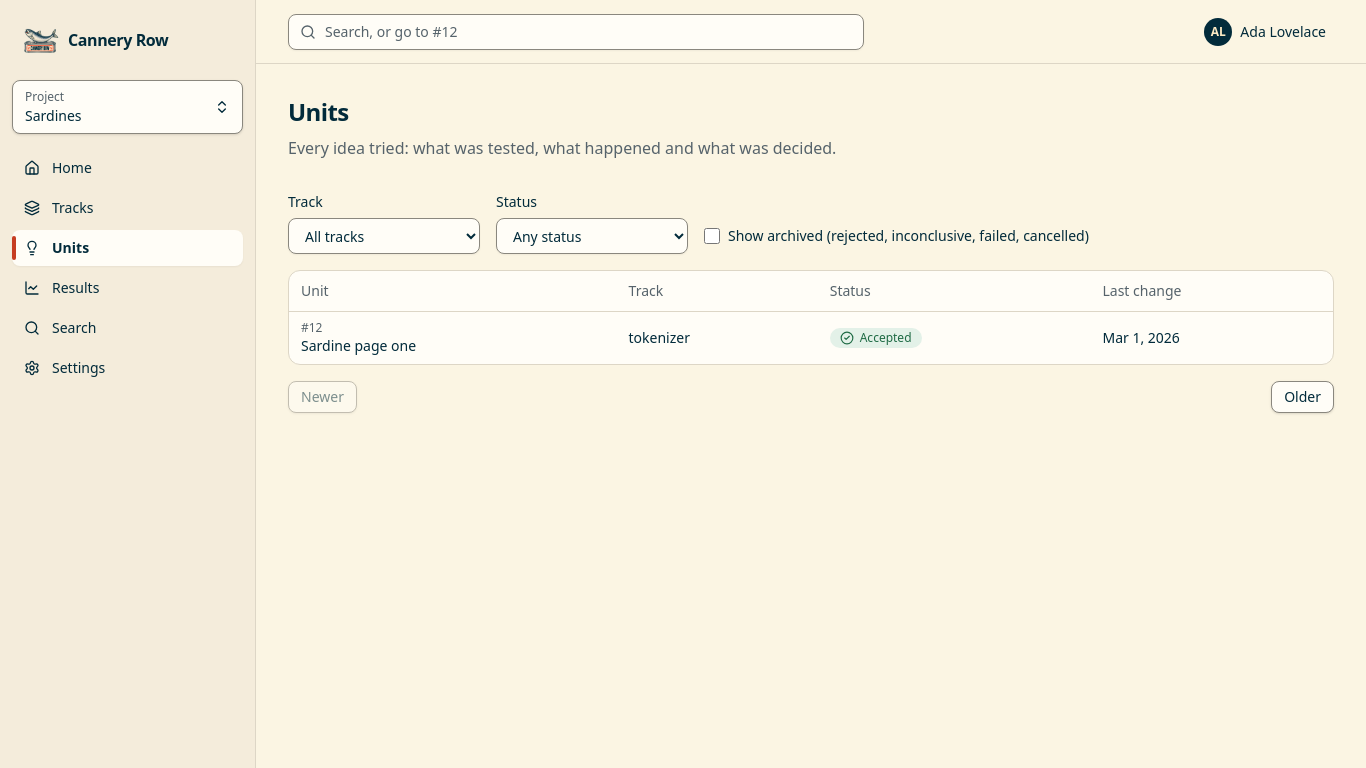
it: the units list across projects › starts the new project at its first page, never showing the old project's rows
This screenshot has width=1366, height=768.
Check: the text "Sardine page one" is shown, box [301,336,416,354]
Click the button "Older".
click(1303, 396)  # box [1271,380,1334,412]
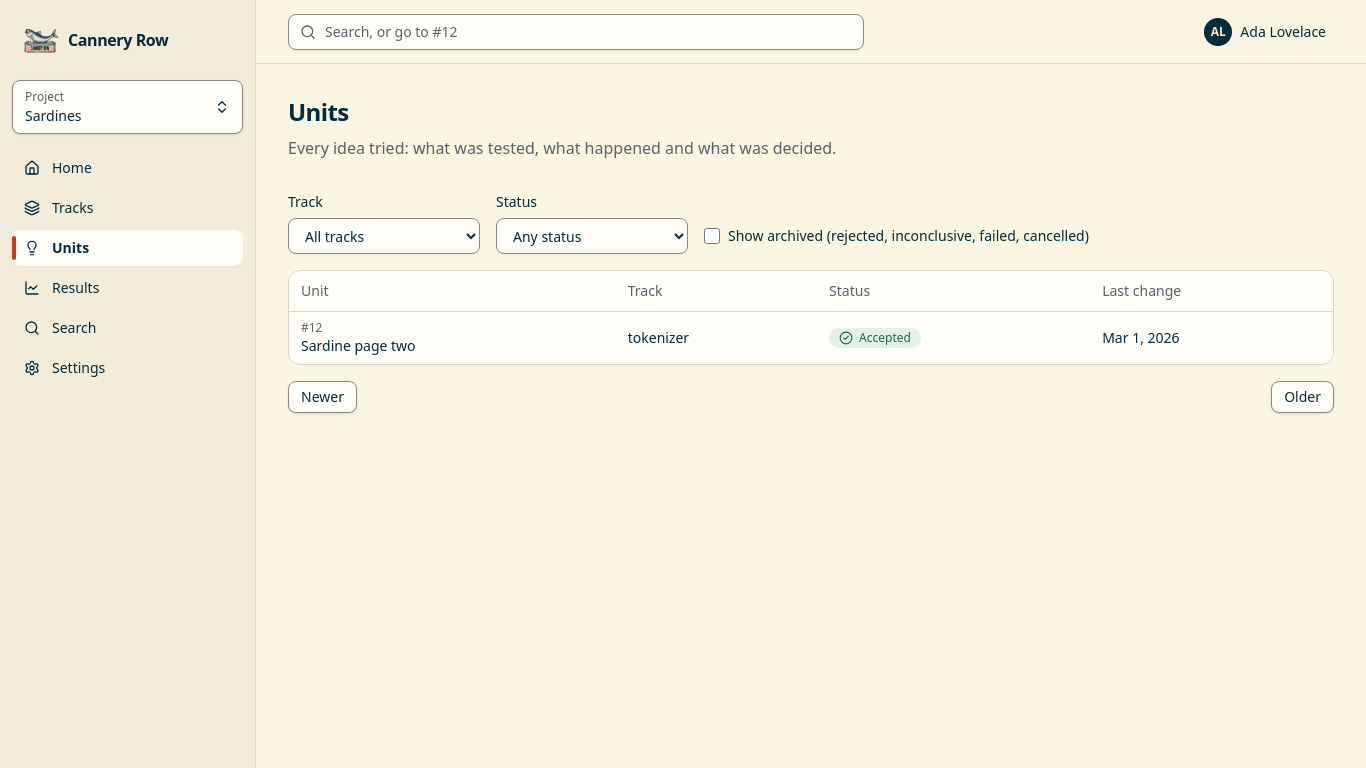
Check: the text "Sardine page two" is shown, box [301,336,416,354]
Click the button "Older".
click(1303, 396)  # box [1271,380,1334,412]
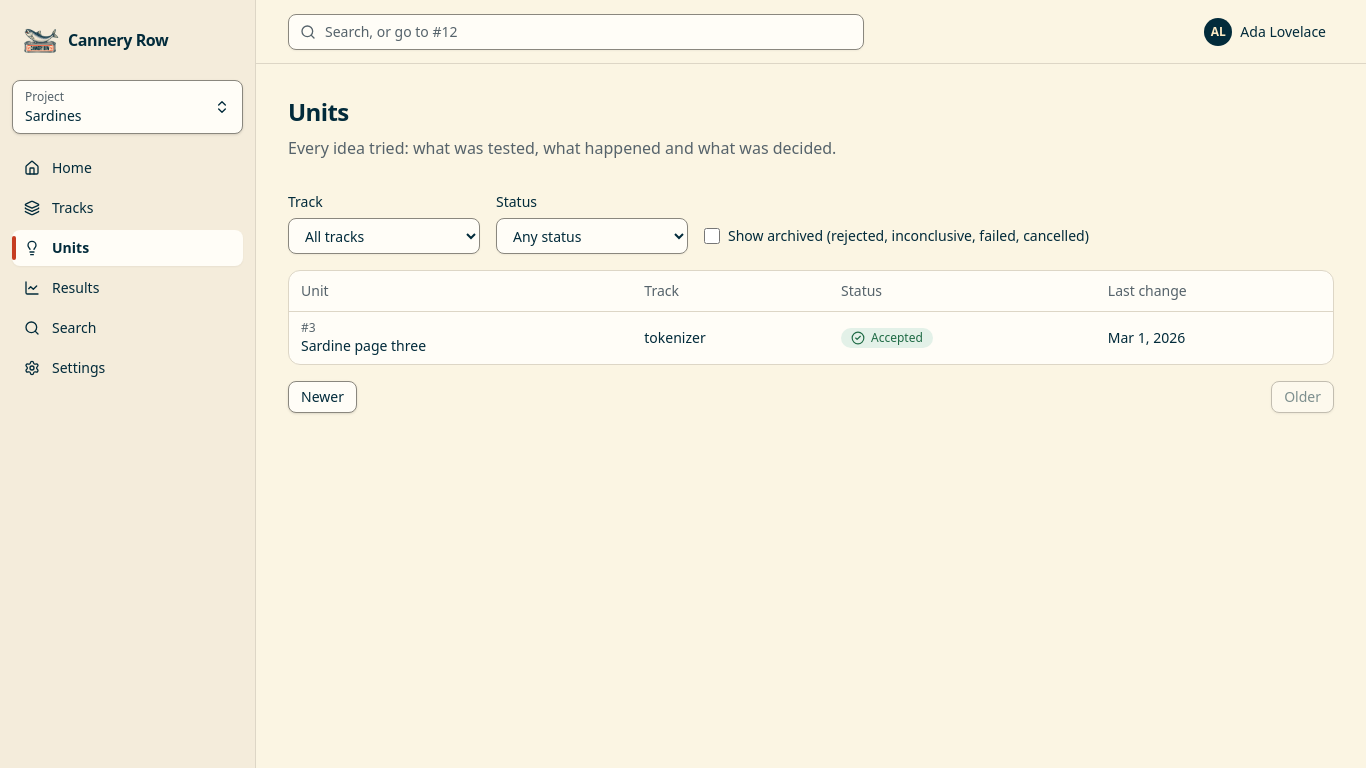
Check: the text "Sardine page three" is shown, box [301,336,426,354]
Click the button with aria-label "Switch project".
click(128, 107)  # box [12,80,243,134]
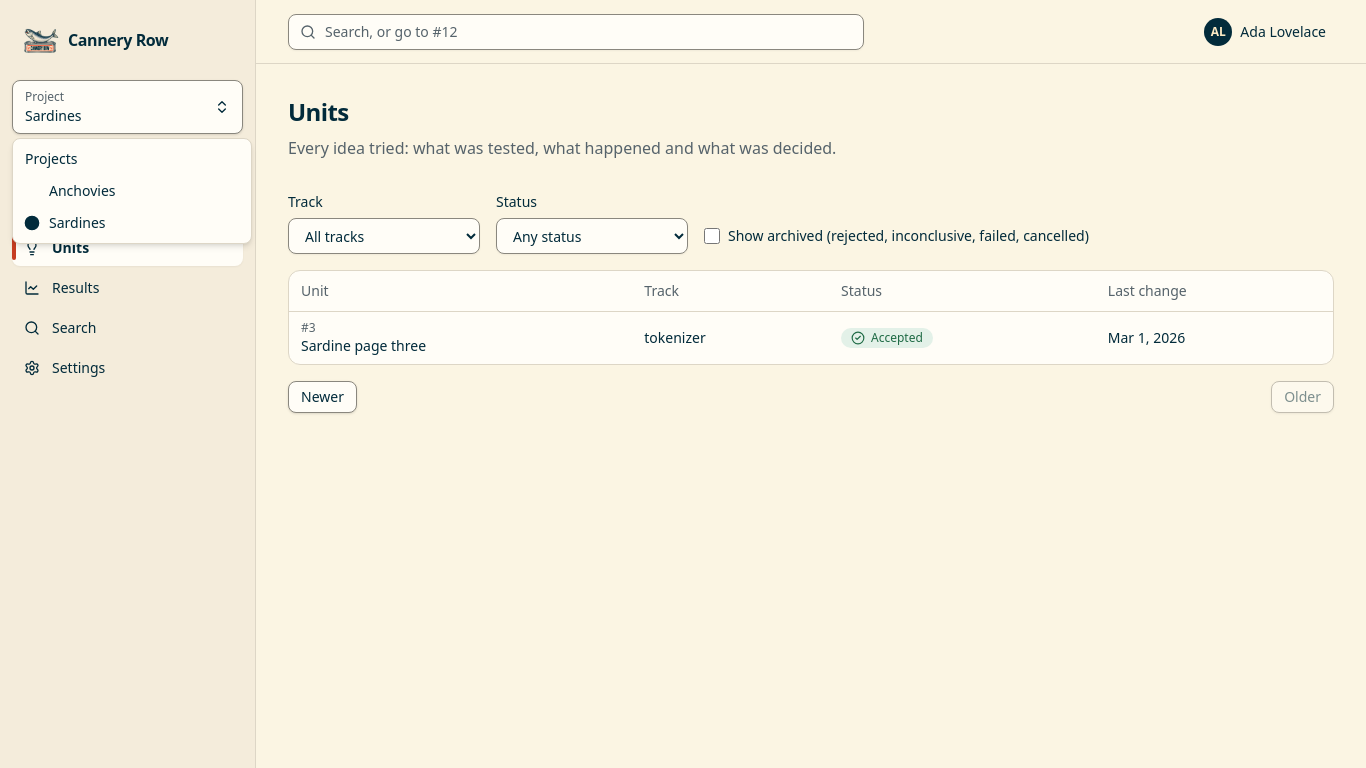
Click the menu item "Anchovies".
click(82, 190)  # box [49,181,116,200]
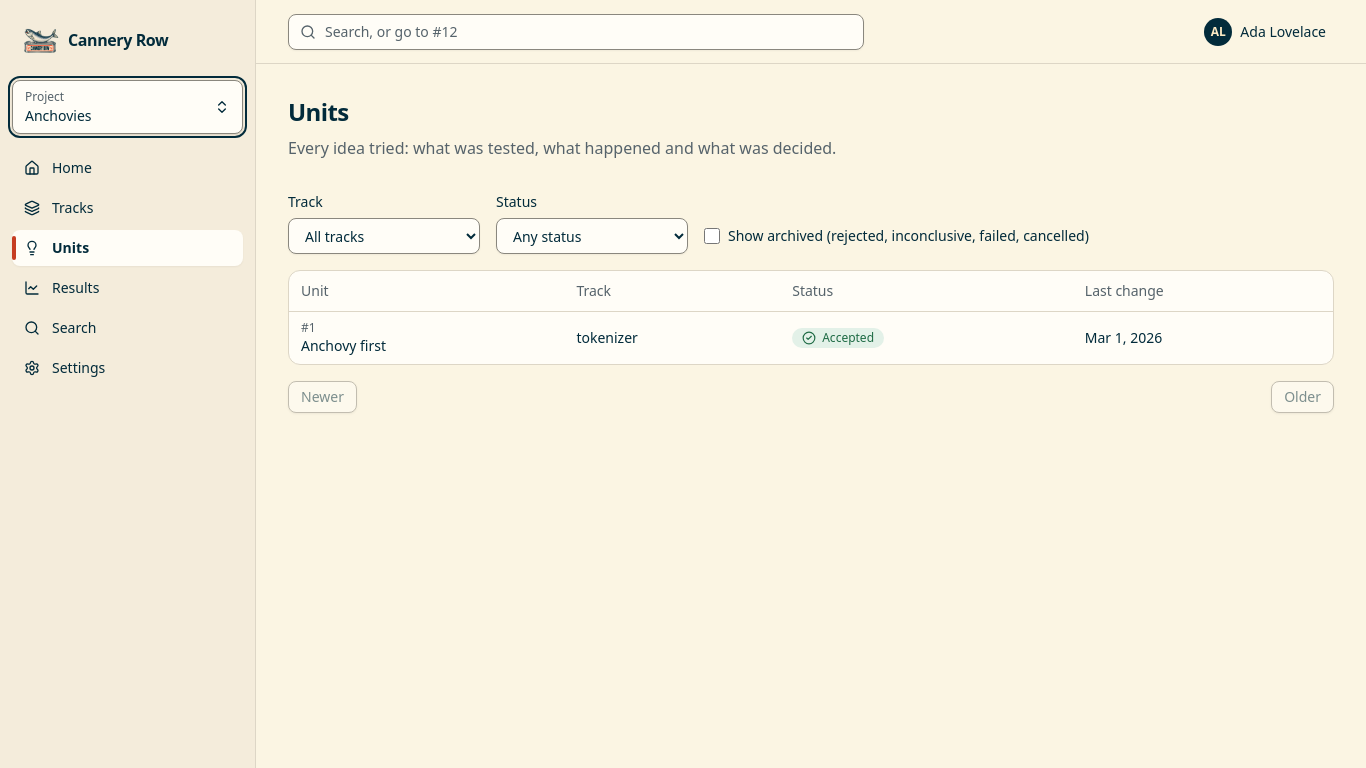
Check: the text "Anchovy first" is shown, box [301,336,386,354]
Check: the link "Sardine page" is gone
Check: the button "Newer" is disabled, box [288,380,357,412]
